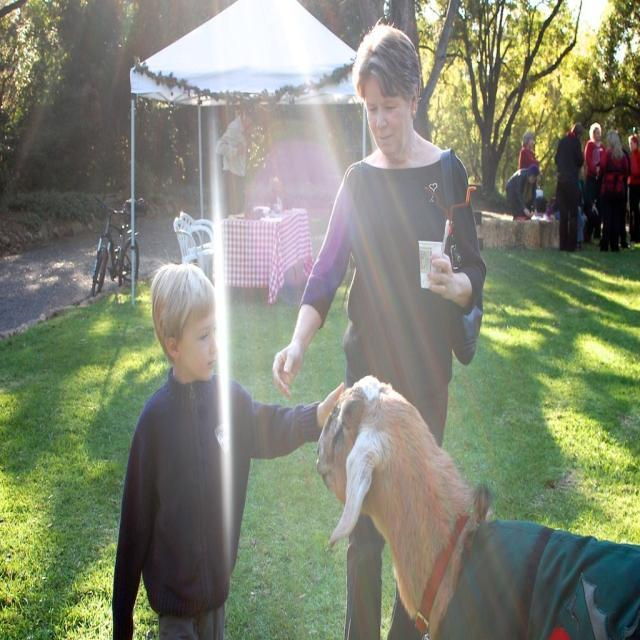Goat: (315, 373, 639, 638)
